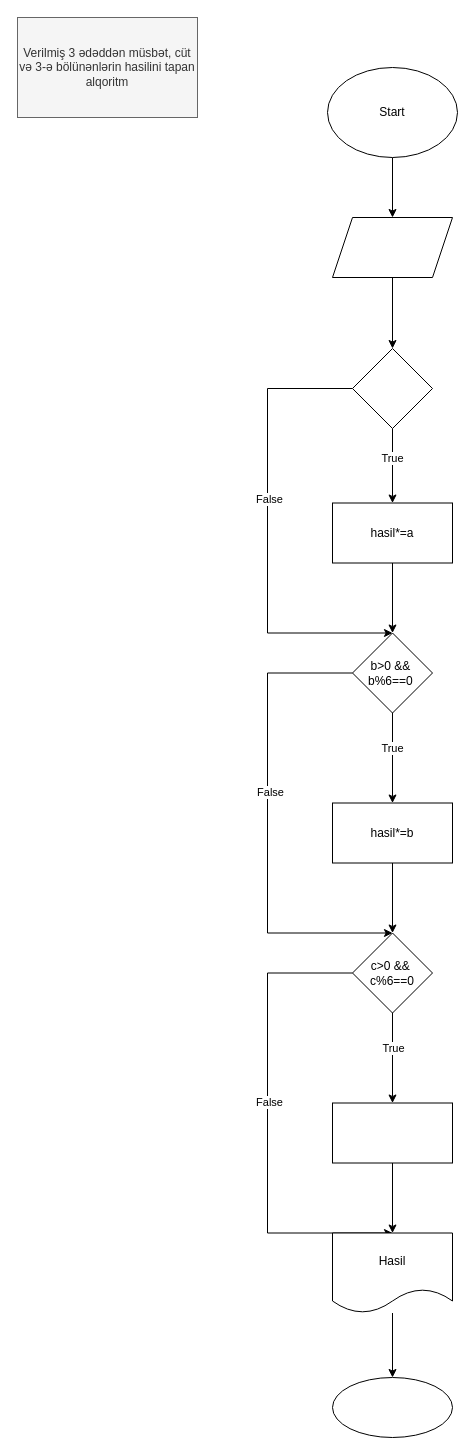
This 475x1455 diagram has some shape labels left out. Here are the shapes that lost their labels. From the top down, the box of each, then its label:
(332, 216, 452, 278): var a,b,c Hasil=1
(352, 348, 432, 428): a>0 && a%6==0
(332, 1102, 452, 1163): hasil*=c
(332, 1376, 452, 1438): End
